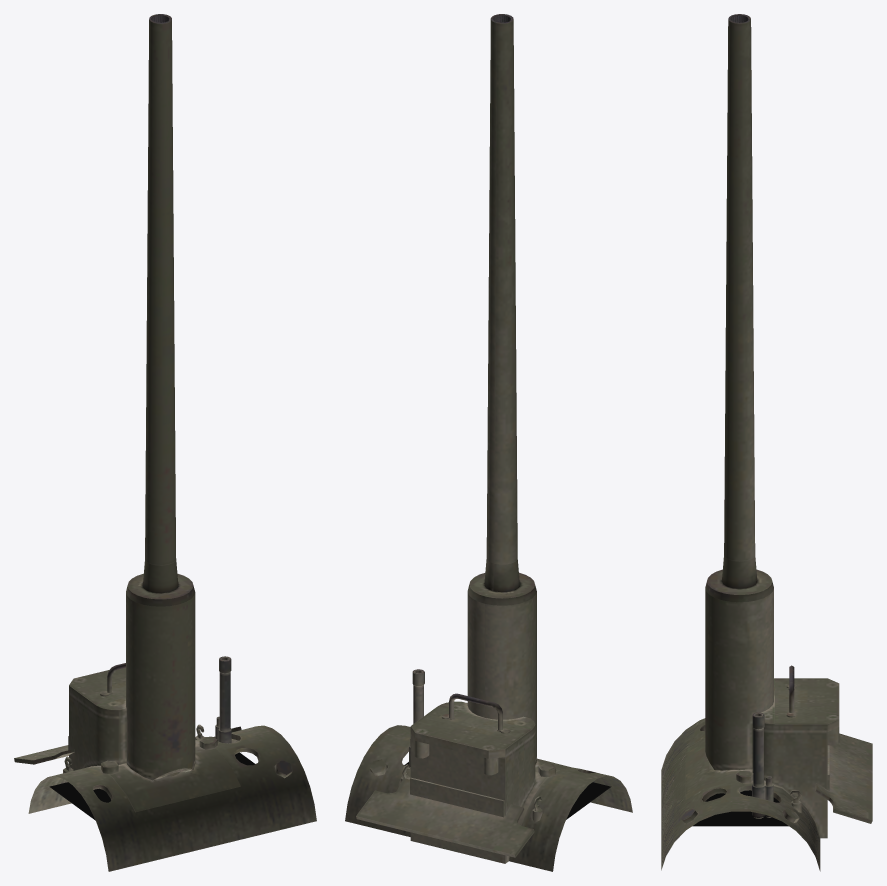
File: Gun_04.glb
The picture shows the model from 3 angles, left to right: view 1: azimuth 30°, elevation 25°; view 2: azimuth 150°, elevation 25°; view 3: azimuth 270°, elevation 25°; orthographic projection.
Parts seen in each view (by area): view 1: set_0_group_0; view 2: set_0_group_0; view 3: set_0_group_0.
Part boxes in pixels (x1,y1,x2,y2): set_0_group_0: (14,14,316,871); set_0_group_0: (345,14,632,871); set_0_group_0: (661,14,872,871).
Bounding box in the file's own units: 0.4925 × 1.81 × 0.4363.
Materials: 1 (1 with a texture image).
